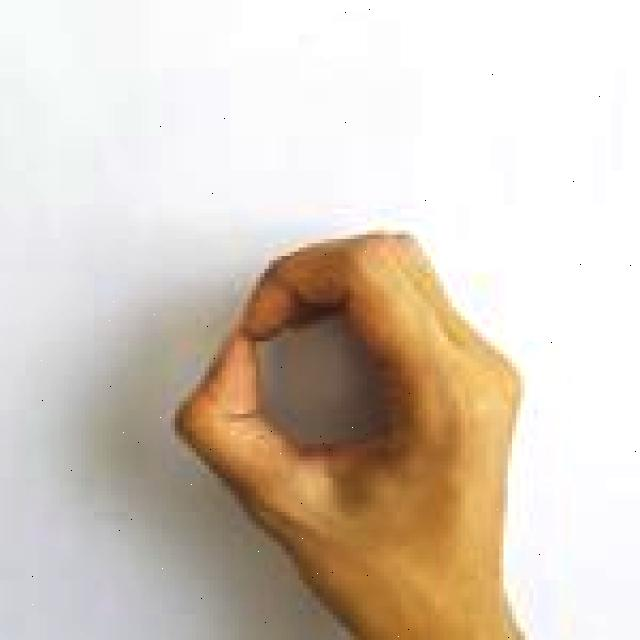O: (165, 221, 533, 640)
